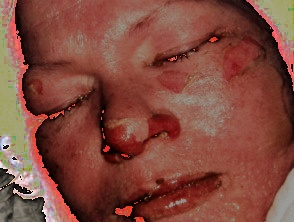SJS-TEN: (110, 167, 283, 222), (96, 104, 193, 167), (202, 23, 278, 92), (150, 55, 200, 101), (24, 75, 43, 99)
